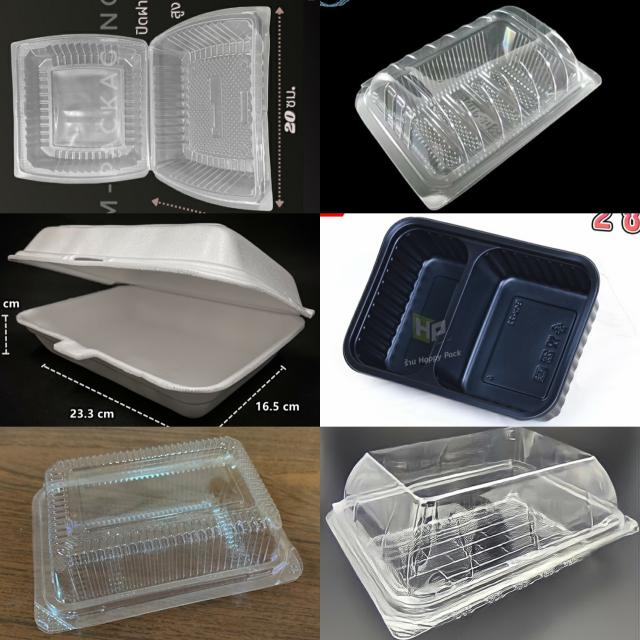Single-Use-Plastic: (327, 428, 639, 640), (9, 224, 314, 417), (11, 6, 273, 210), (33, 436, 303, 632), (343, 218, 599, 419), (357, 6, 600, 208)
